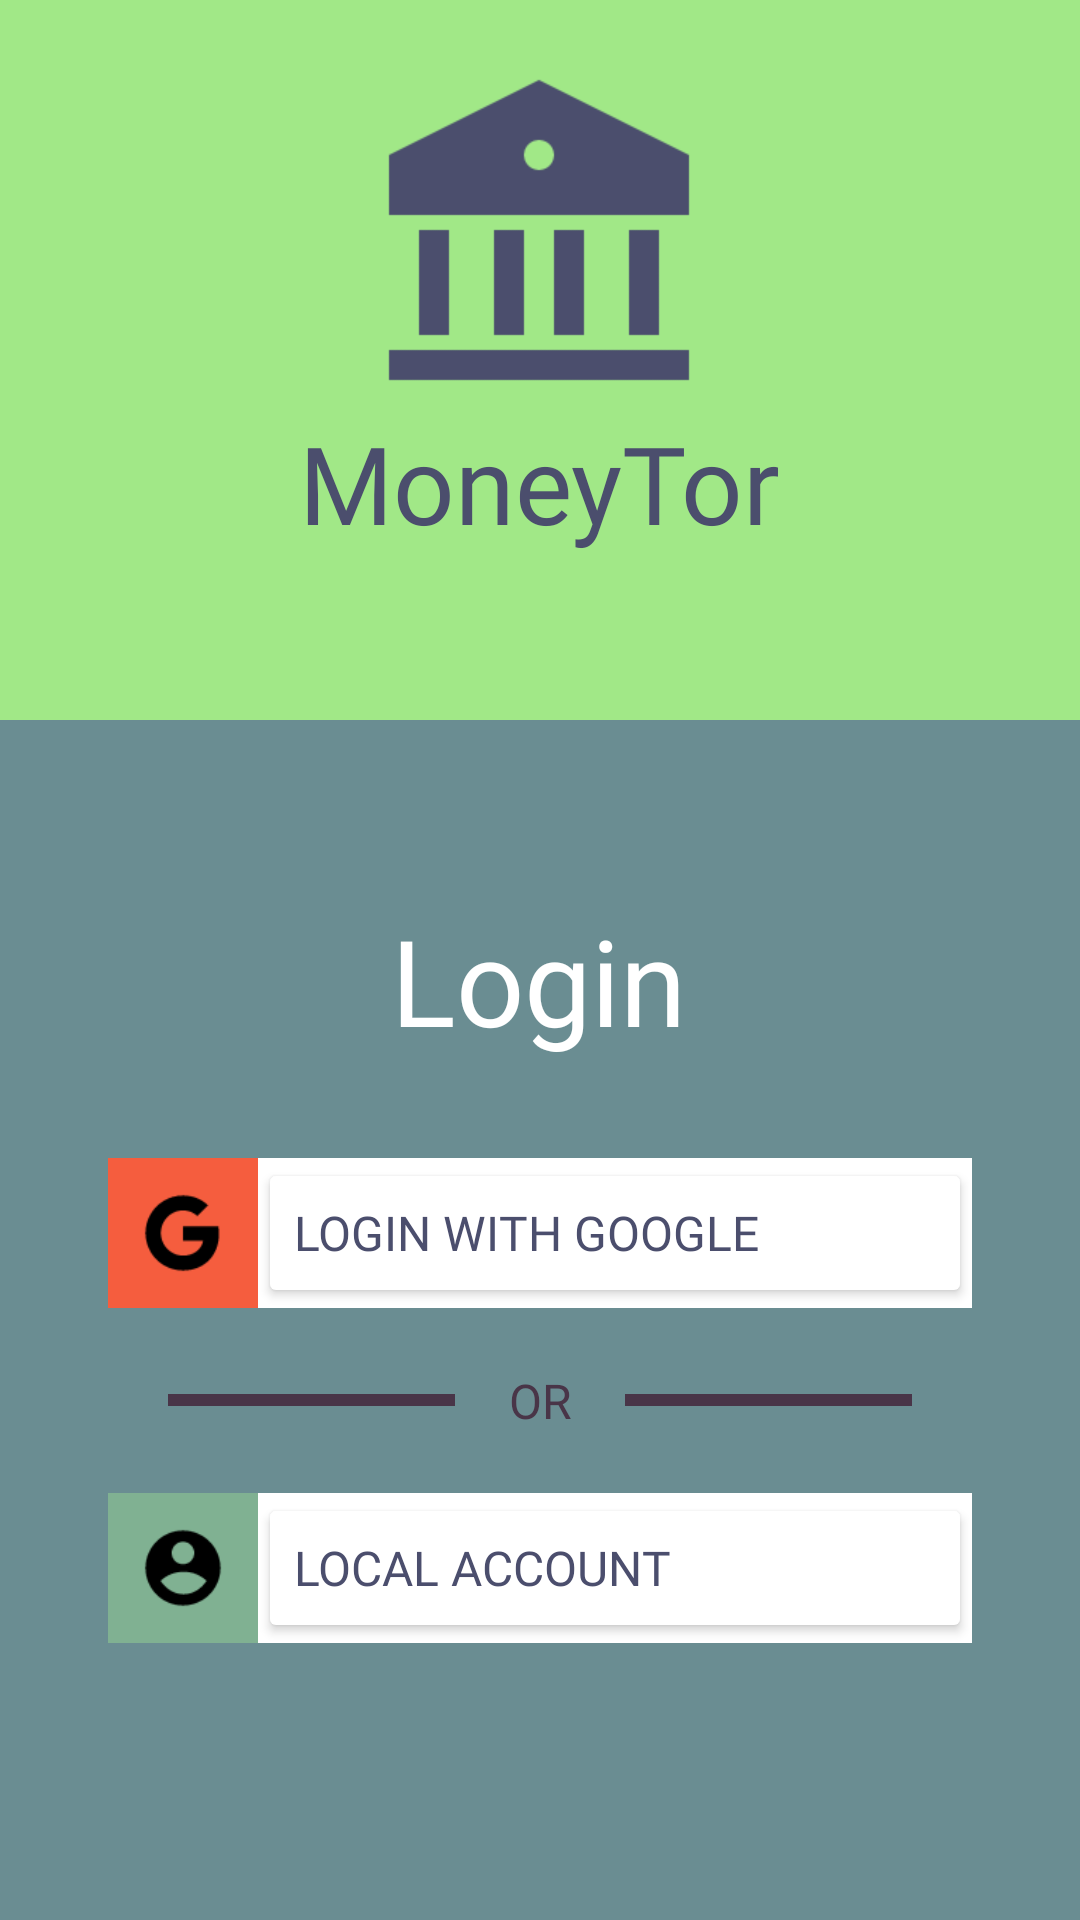

Named icons in this screenshot (1080px×1920px) and their centers, (x=x, y=y):
account circle: (x=183, y=1568)
bank: (x=539, y=230)
